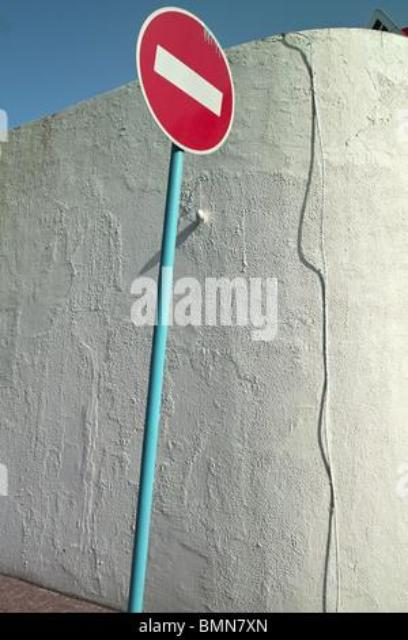B2: (134, 5, 236, 156)
